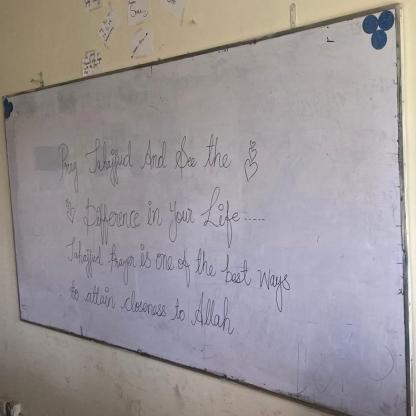Handwritten text: (48, 113, 239, 193), (56, 236, 302, 298), (54, 274, 245, 342), (76, 174, 243, 245)
Whiteboard: (1, 6, 414, 416)
